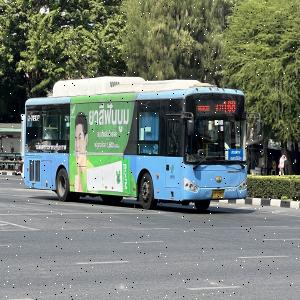BMTA-bus: (21, 77, 249, 213)
Bus Line Number: (223, 98, 236, 114)
Bus Side Number: (26, 113, 41, 122), (224, 187, 237, 193)
Destination Sign: (227, 149, 244, 163)
